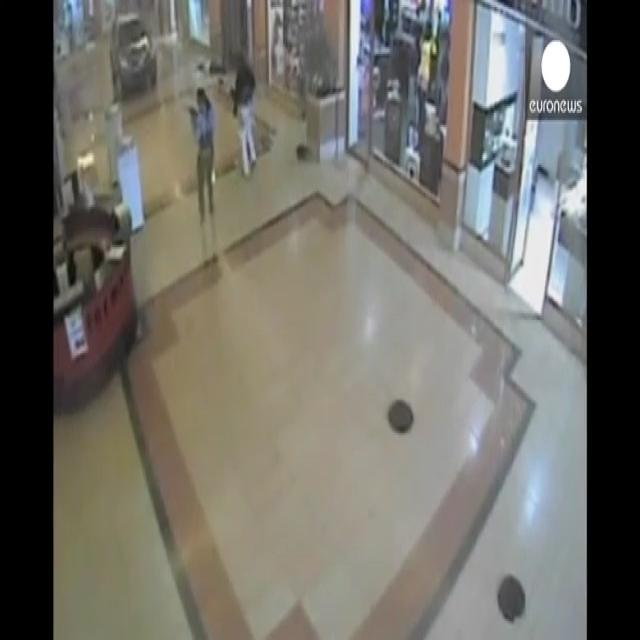Weapon: (225, 75, 243, 105), (183, 100, 200, 128)
